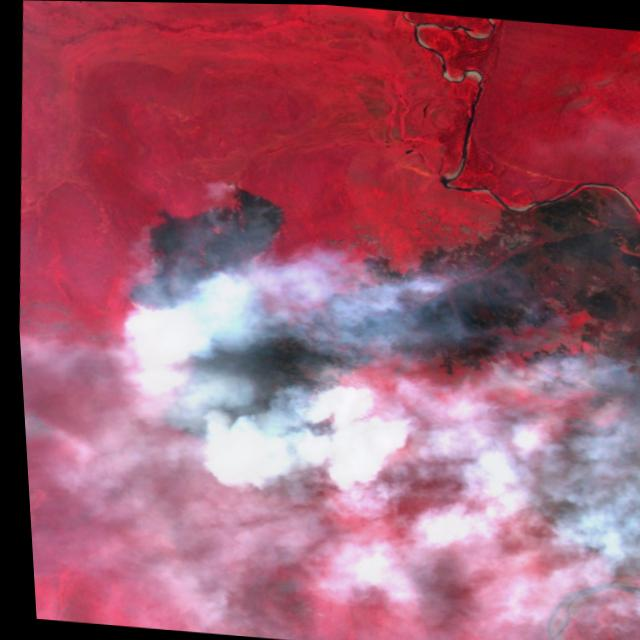fire: (108, 166, 303, 340), (134, 395, 382, 485), (464, 336, 515, 379)
